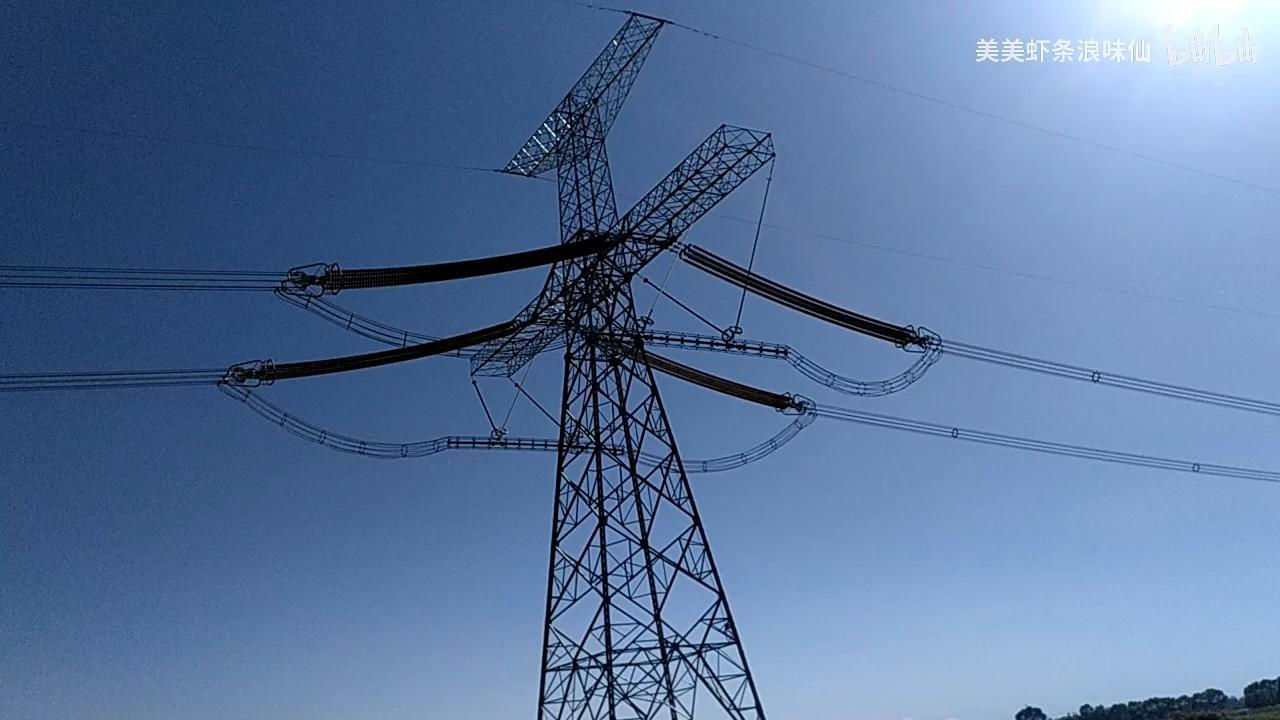power_tower: (214, 20, 938, 720)
